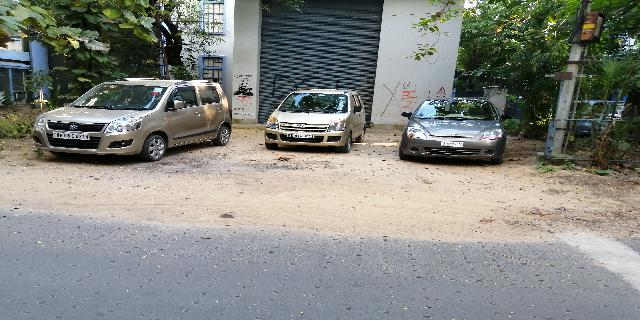Car: (29, 72, 233, 163), (395, 93, 510, 171), (259, 85, 373, 156)
